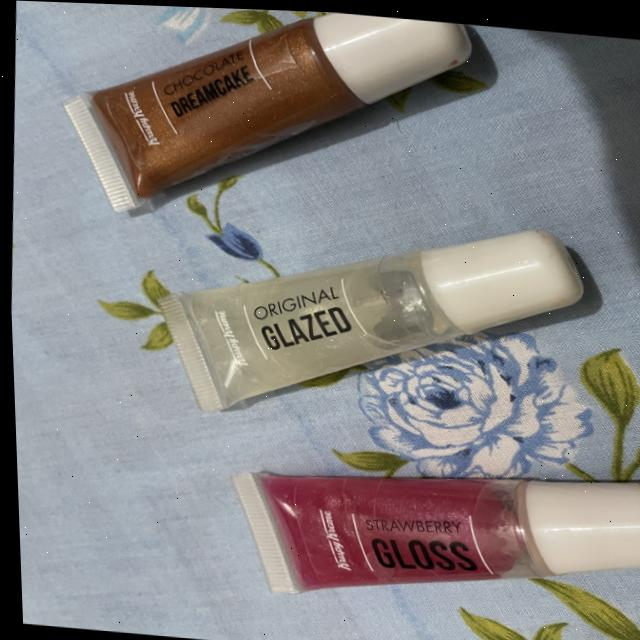lip balm: (129, 185, 620, 461), (37, 1, 504, 252), (209, 412, 640, 640)
